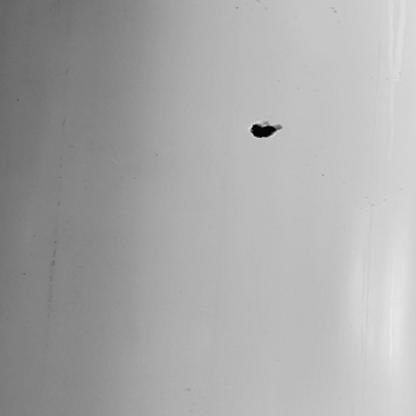kongdong: (246, 120, 294, 147)
